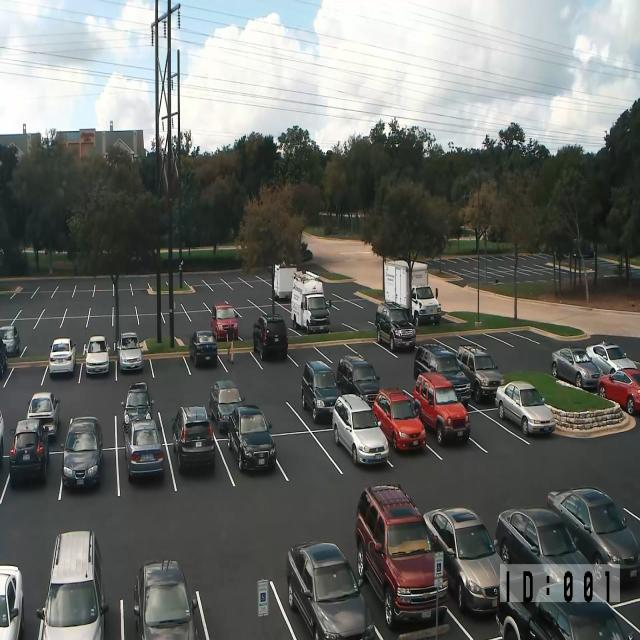car: (356, 483, 448, 629), (494, 506, 596, 604), (496, 573, 639, 639), (546, 486, 640, 584), (422, 506, 503, 616), (286, 540, 374, 640), (36, 530, 109, 640), (133, 558, 199, 640), (413, 372, 471, 446), (332, 393, 389, 466), (528, 600, 630, 639), (413, 343, 471, 409), (373, 387, 426, 452), (495, 381, 556, 436), (227, 404, 276, 472), (60, 415, 103, 489), (172, 405, 216, 473), (456, 344, 504, 403), (300, 359, 342, 424), (123, 416, 164, 480), (9, 418, 49, 482), (551, 346, 603, 391), (337, 354, 380, 407), (597, 368, 640, 416), (375, 301, 416, 351), (209, 379, 245, 433), (0, 564, 24, 640), (586, 340, 637, 375), (413, 341, 457, 381), (121, 381, 154, 433), (252, 314, 288, 361), (26, 391, 60, 439), (411, 284, 441, 326), (116, 331, 143, 372), (83, 335, 110, 375), (189, 329, 217, 367), (211, 302, 238, 341), (49, 337, 76, 375), (0, 324, 20, 356), (572, 242, 594, 258), (0, 338, 8, 378), (0, 408, 4, 466)
